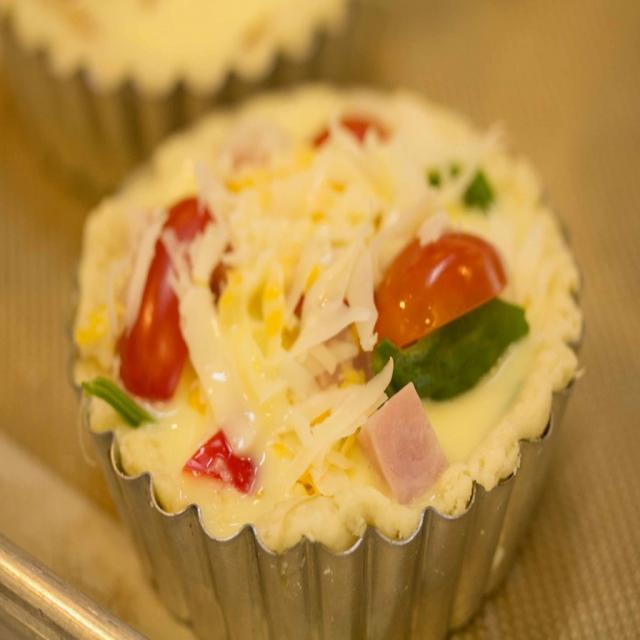Muffin: (55, 80, 605, 608), (0, 0, 358, 182)
